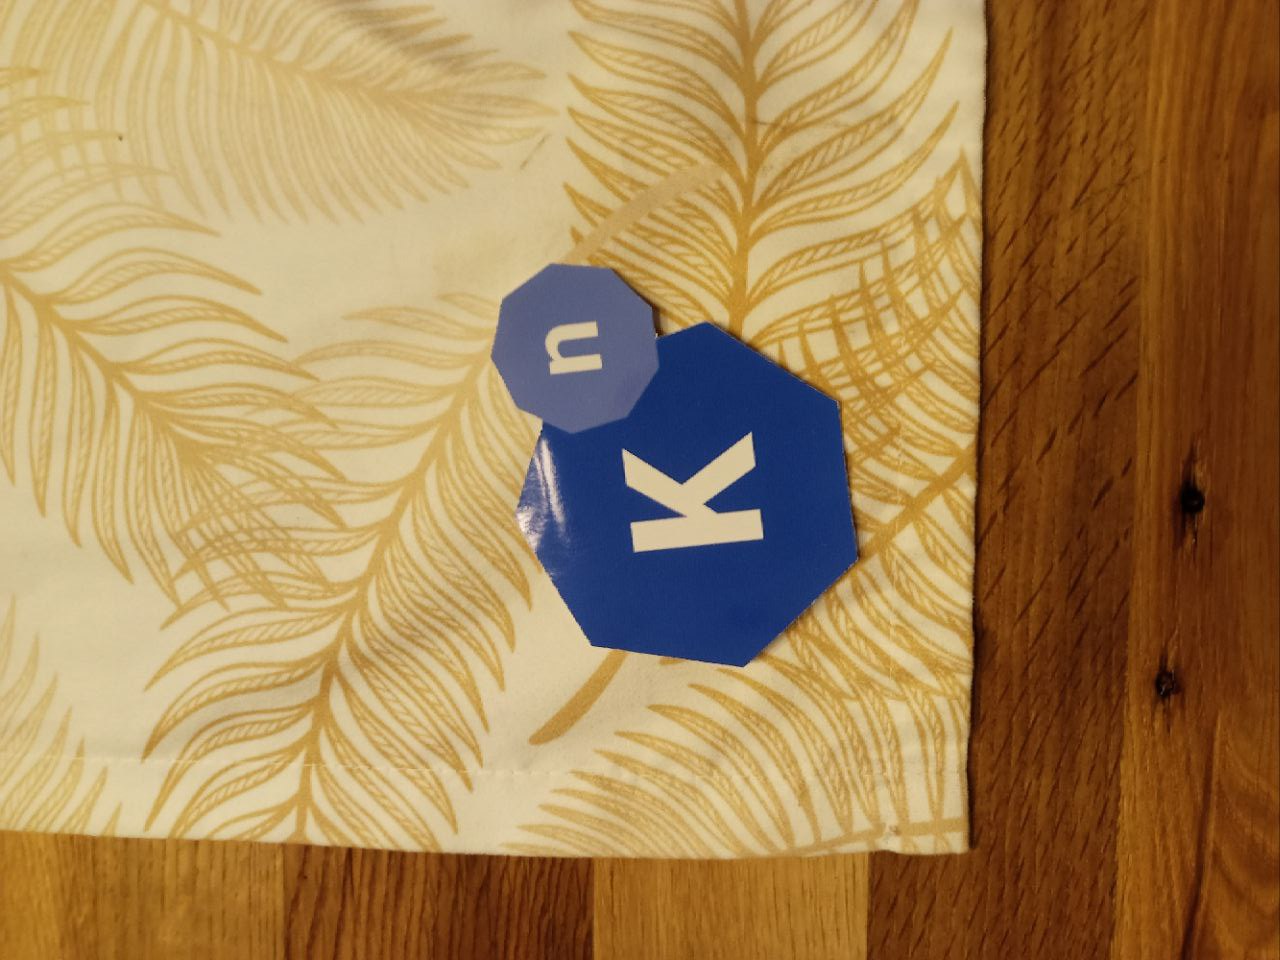knative: (491, 262, 864, 672)
